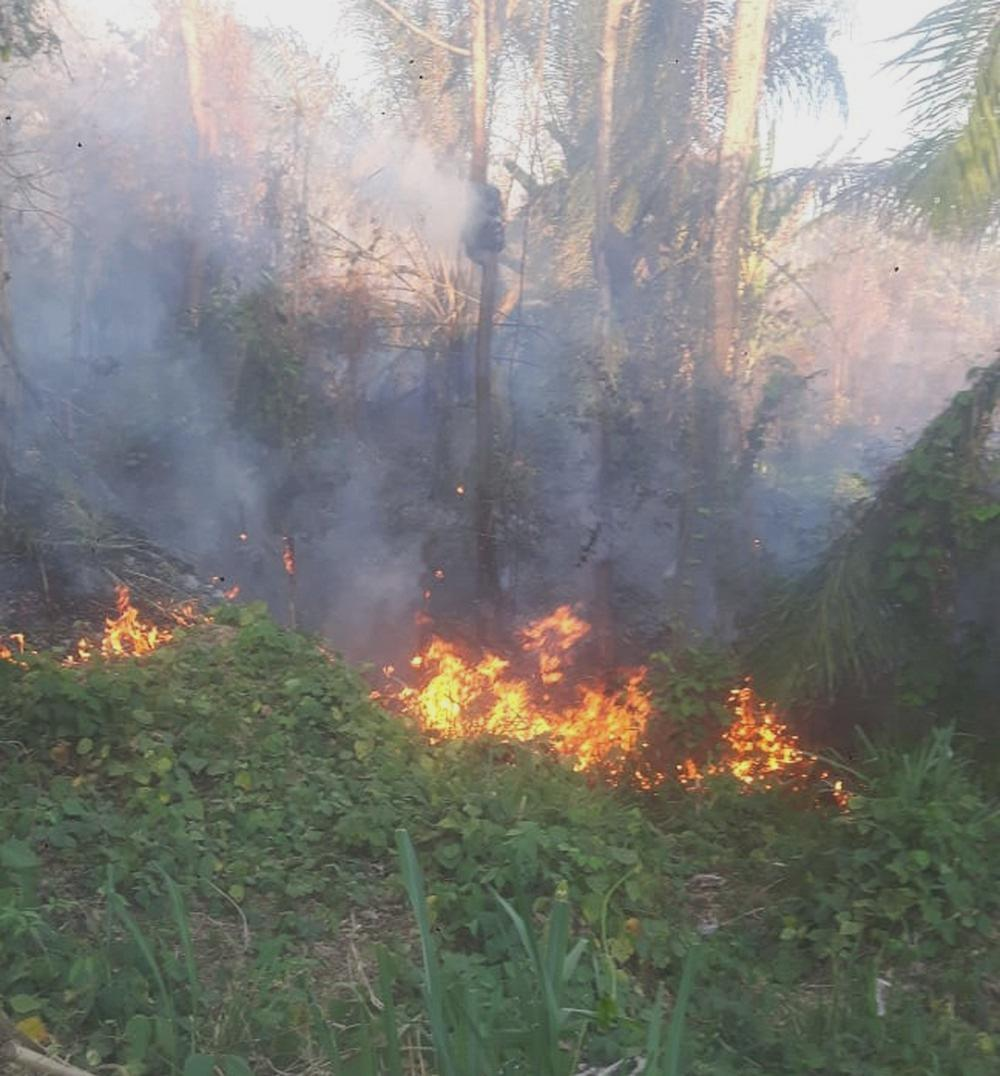Fire: (384, 596, 860, 810), (36, 576, 185, 668)
